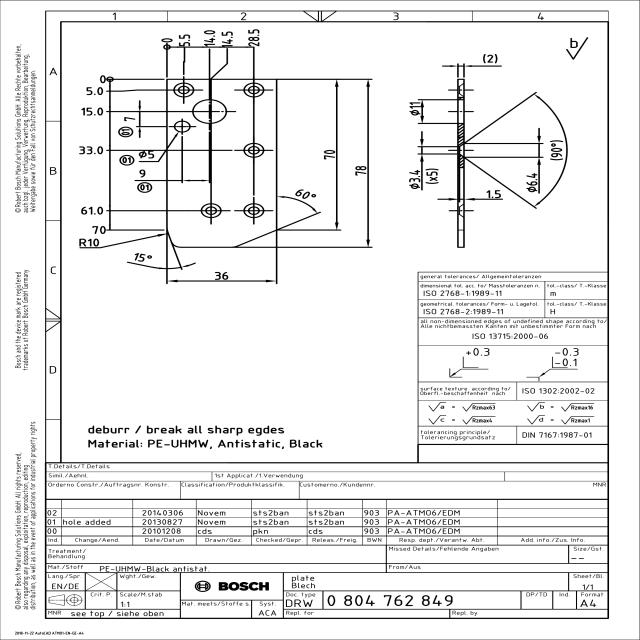dimension: (292, 188, 319, 201), (548, 140, 564, 161), (407, 169, 422, 190), (202, 29, 218, 47), (247, 28, 262, 47), (77, 145, 104, 155), (77, 237, 101, 248), (132, 252, 154, 264), (525, 173, 538, 193), (425, 168, 440, 185), (220, 31, 235, 47), (80, 106, 104, 116), (80, 206, 104, 216), (213, 270, 230, 282), (177, 34, 192, 47), (409, 101, 422, 116), (482, 53, 498, 64), (85, 86, 104, 95), (354, 165, 368, 177), (322, 149, 337, 160), (138, 150, 156, 159), (90, 225, 106, 235), (486, 189, 501, 199), (121, 115, 137, 123), (138, 168, 148, 178), (160, 37, 175, 43), (99, 74, 107, 84)
